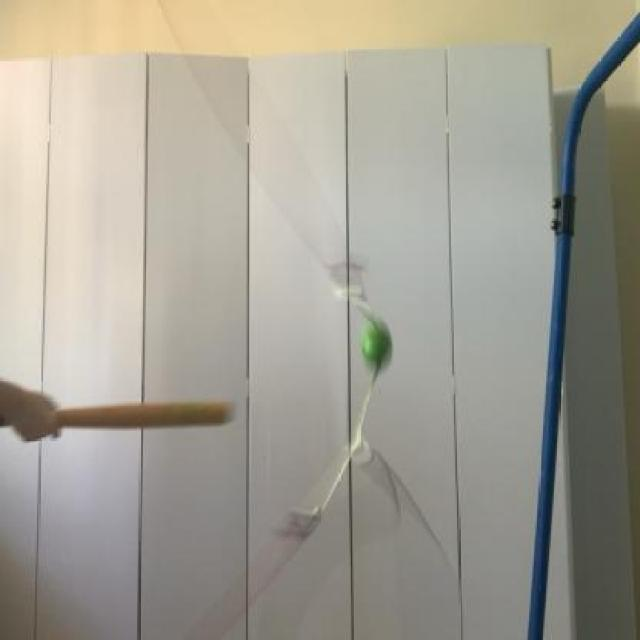baseball: (355, 312, 402, 378)
